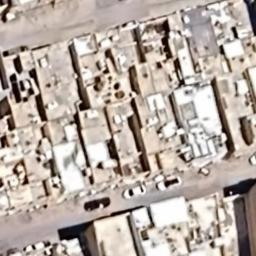sedan: (154, 175, 183, 193), (120, 183, 148, 201)
unknown: (82, 195, 114, 212)
